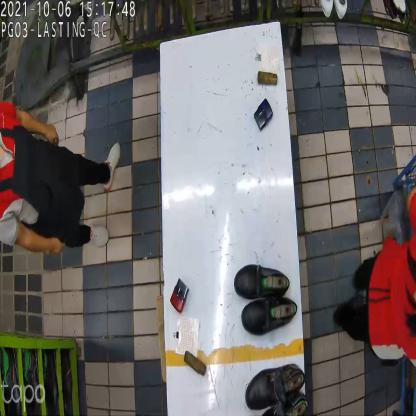shoes: (233, 263, 296, 336), (242, 363, 313, 415)
stamp: (254, 97, 275, 131), (170, 280, 191, 313)
